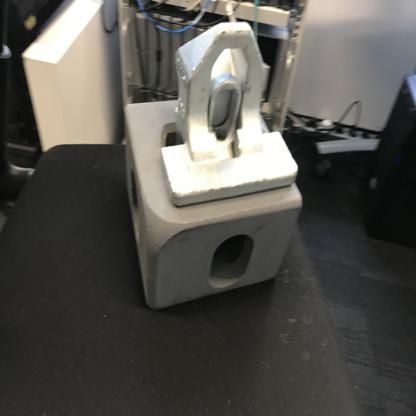CornerCasting: (123, 102, 301, 316)
Twistlock: (167, 23, 302, 204)
